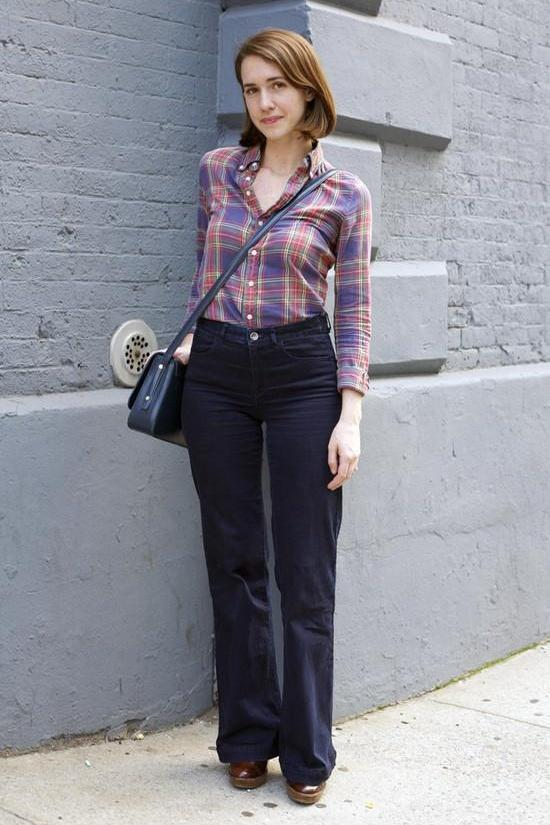pants: (187, 314, 343, 782)
shirt: (186, 143, 371, 392)
